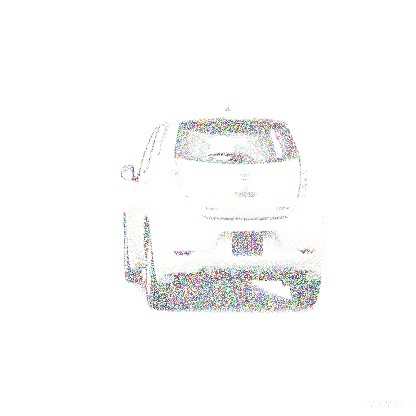Vehicle: (120, 107, 327, 311)
